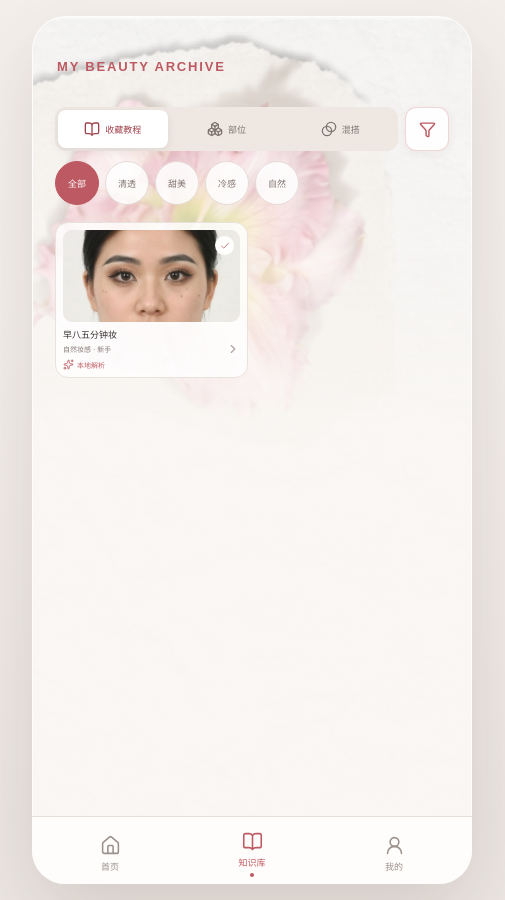
shows a full-face part filter with empty results
The image size is (505, 900).
Click the tab "部位" at (227, 129), box [172,110,281,148]
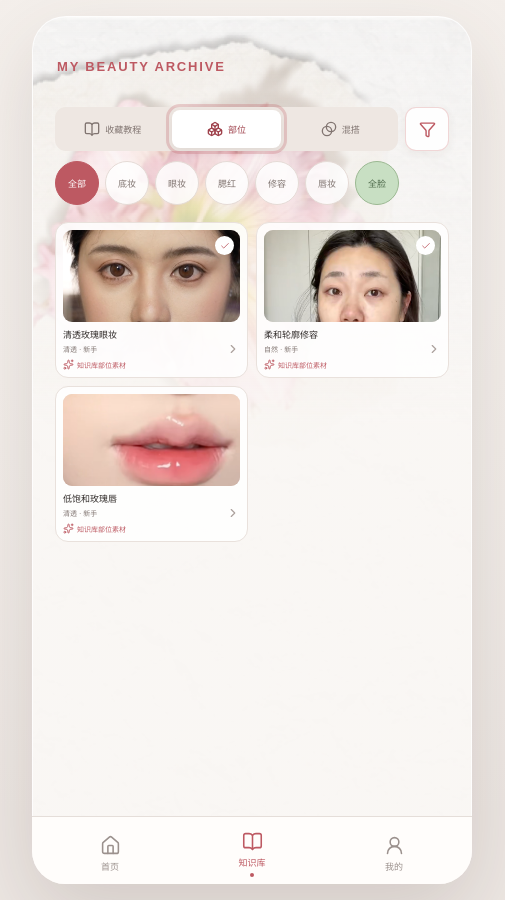
Now the button "底妆" is shown, box [105,161,149,205]
Now the button "眼妆" is shown, box [155,161,199,205]
Now the button "腮红" is shown, box [205,161,249,205]
Click the button "全脸" at (377, 183), box [355,161,399,205]
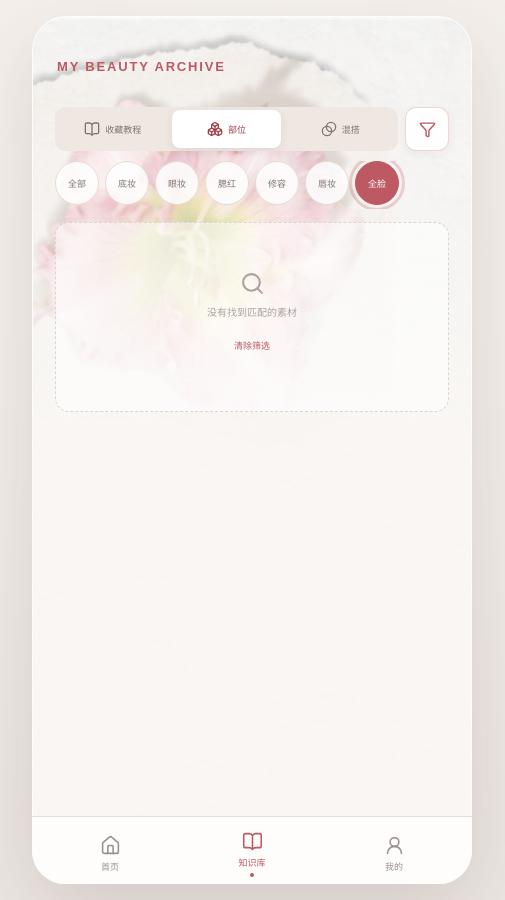
Now the text "没有找到匹配的素材" is shown, box [207,304,297,319]
